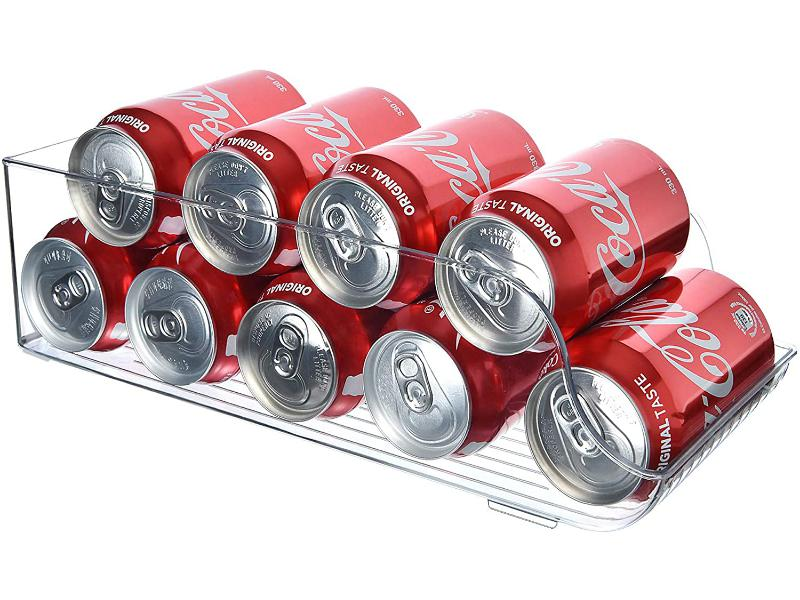can: (538, 267, 782, 503), (429, 188, 576, 355), (292, 160, 428, 311), (350, 322, 485, 465), (177, 132, 298, 275), (56, 105, 170, 252), (229, 287, 343, 429), (115, 255, 229, 393), (16, 231, 119, 367)
